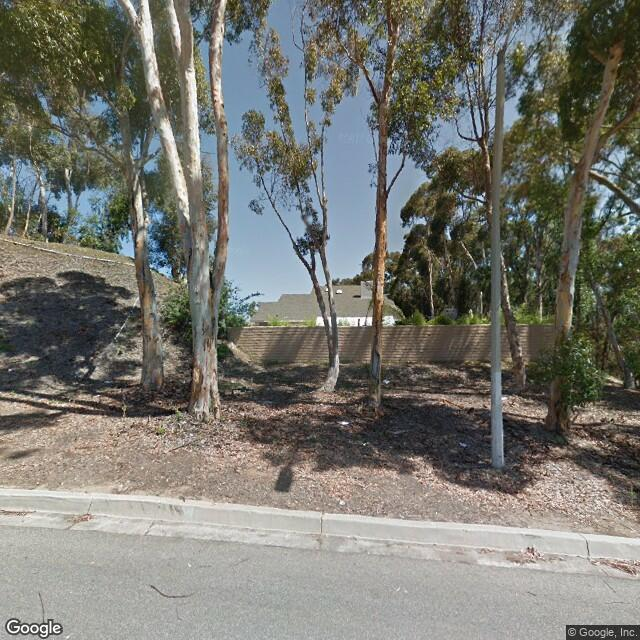litter: (382, 377, 392, 387), (338, 498, 347, 508), (456, 439, 467, 447), (339, 420, 350, 427)
